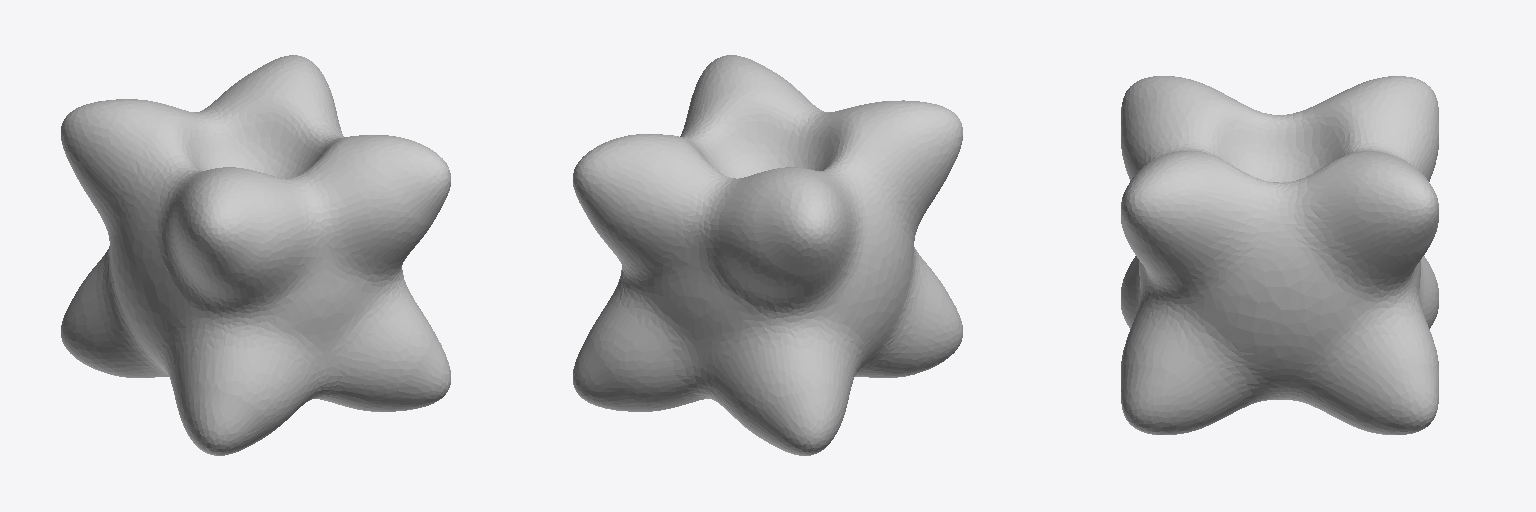
File: grow.obj
3 views of the same model, side by side, from view 1: azimuth 30°, elevation 25°; view 2: azimuth 150°, elevation 25°; view 3: azimuth 270°, elevation 25° (orthographic).
Parts seen in each view (by area): view 1: Quad_Sphere; view 2: Quad_Sphere; view 3: Quad_Sphere.
Boxes of the visible parts, x1=… form: Quad_Sphere: x1=61, y1=55, x2=450, y2=455; Quad_Sphere: x1=573, y1=55, x2=962, y2=455; Quad_Sphere: x1=1121, y1=76, x2=1438, y2=434.
Size of the model in its own units: 2.82 by 2.84 by 3.07.